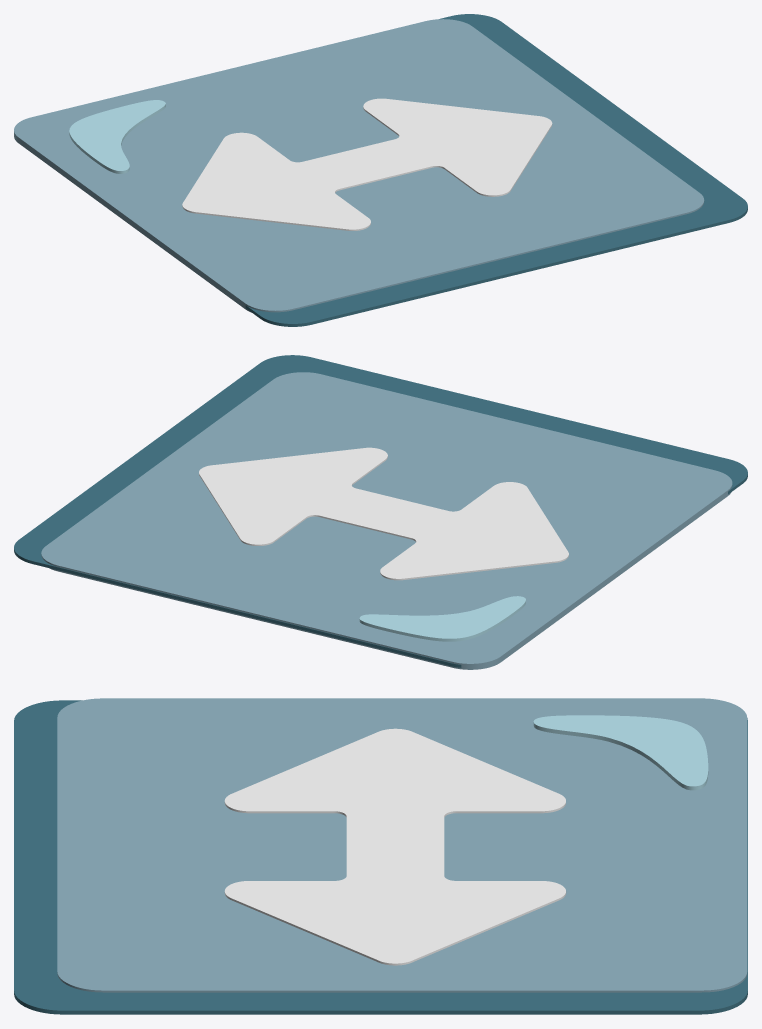
File: emoji_u2194.glb
The picture shows the model from 3 angles, top to bottom: view 1: azimuth 30°, elevation 25°; view 2: azimuth 150°, elevation 25°; view 3: azimuth 270°, elevation 25°; orthographic projection. The views are drawn at different scales.
Visible parts, largest first — view 1: emoji_u2194; view 2: emoji_u2194; view 3: emoji_u2194.
Boxes of the visible parts, box(x1,y1,x2,y2) form: emoji_u2194: box(14, 14, 747, 326); emoji_u2194: box(14, 355, 747, 669); emoji_u2194: box(14, 698, 747, 1014).
Bounding box in the file's own units: 0.0339 × 0.0008 × 0.0339.
